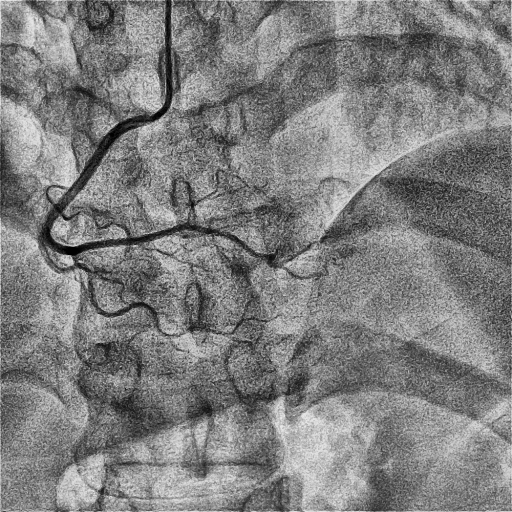pda: (188, 225, 326, 279)
rca: (39, 115, 188, 255)
